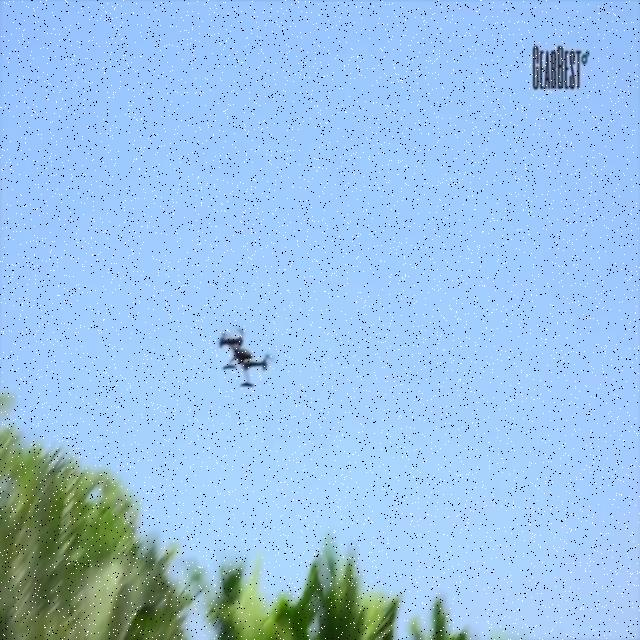UAV: (219, 327, 275, 388)
